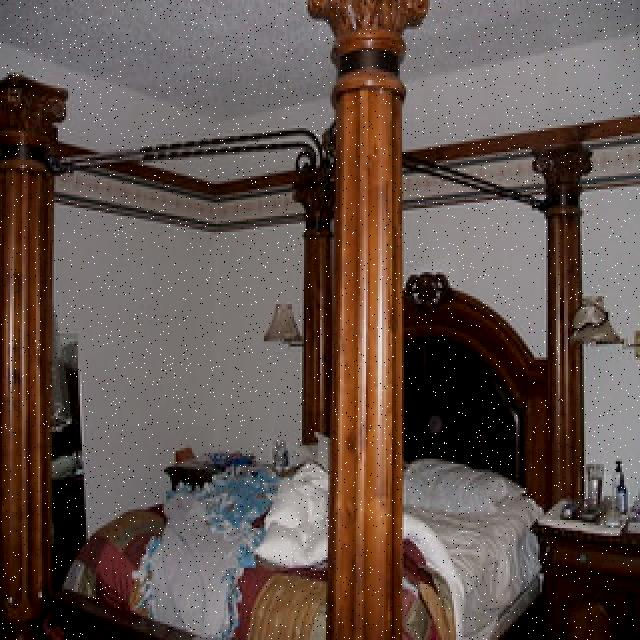bed: (69, 407, 547, 640)
